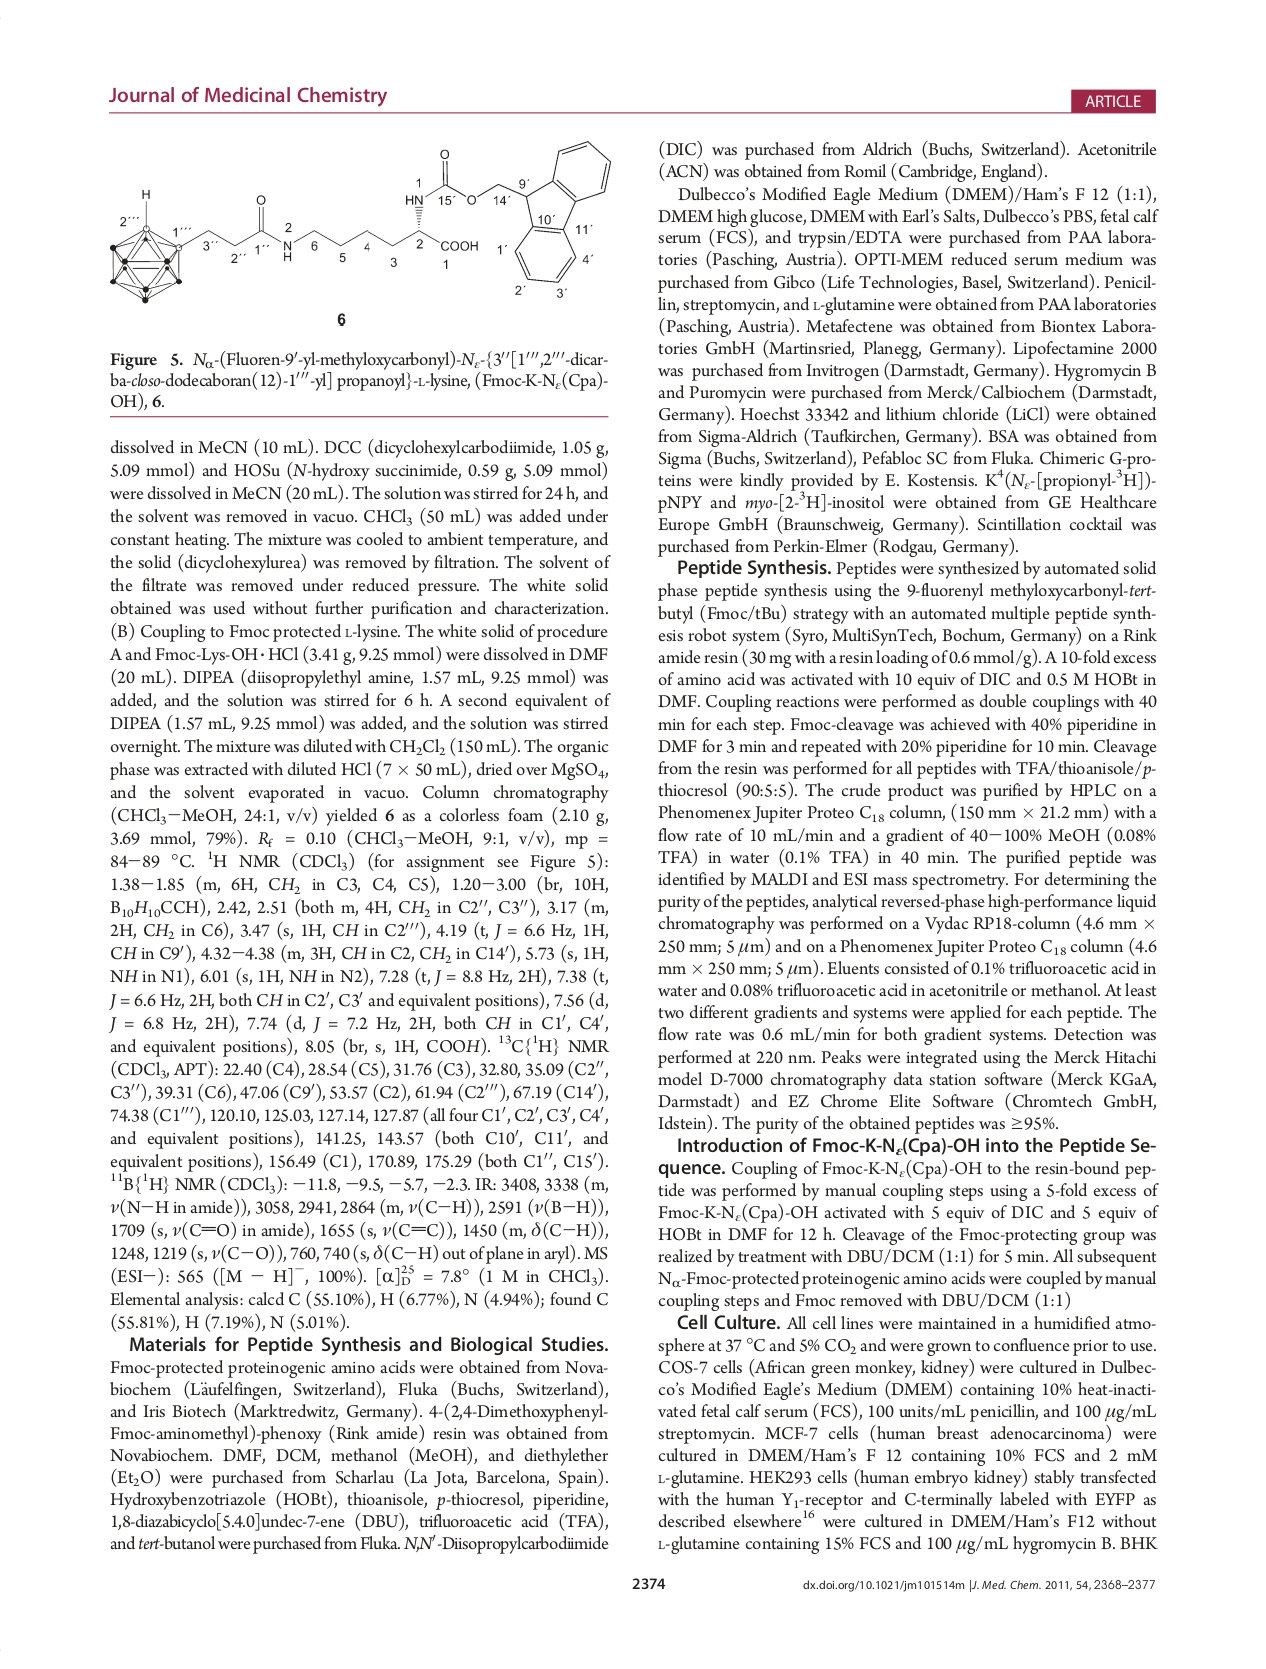exist_molecular: (105, 140, 612, 306)
